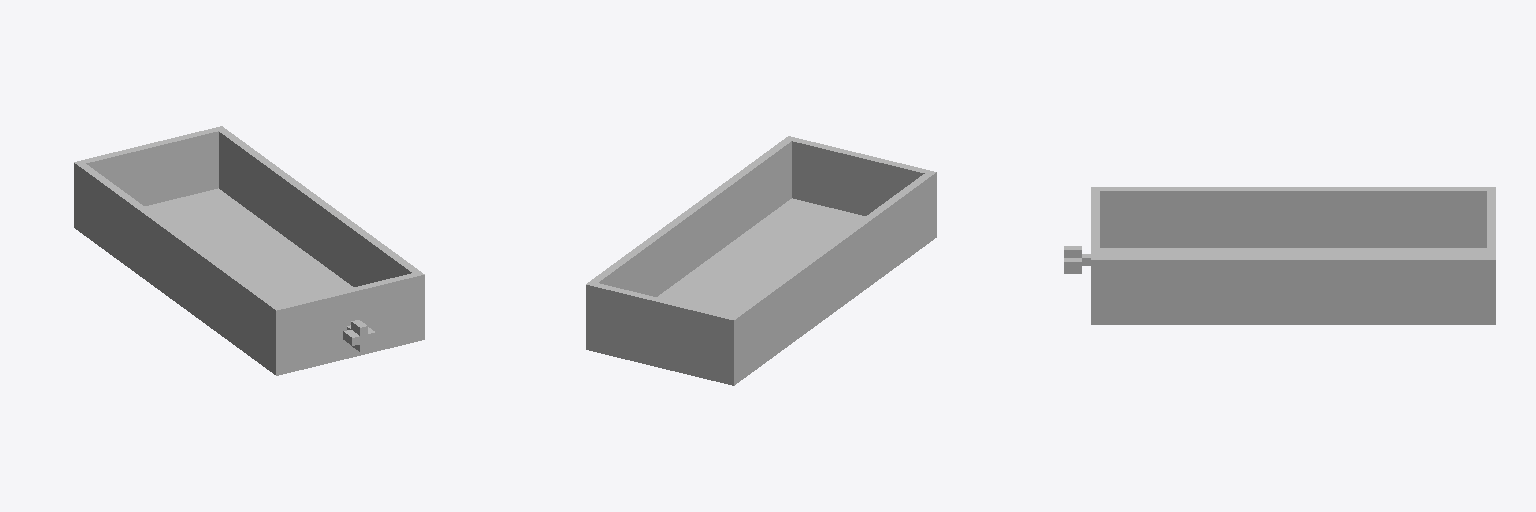
The model's file is bureau Prof-2.obj.
3 views of the same model, side by side, from view 1: azimuth 30°, elevation 25°; view 2: azimuth 150°, elevation 25°; view 3: azimuth 270°, elevation 25° (orthographic).
Visible parts, largest first — view 1: object 1; view 2: object 1; view 3: object 1.
Boxes of the visible parts, x1,y1,x2,y2 form: object 1: [74, 126, 424, 375]; object 1: [586, 136, 936, 385]; object 1: [1064, 187, 1495, 324].
Size of the model in its own units: 1.9 by 0.8 by 4.8.